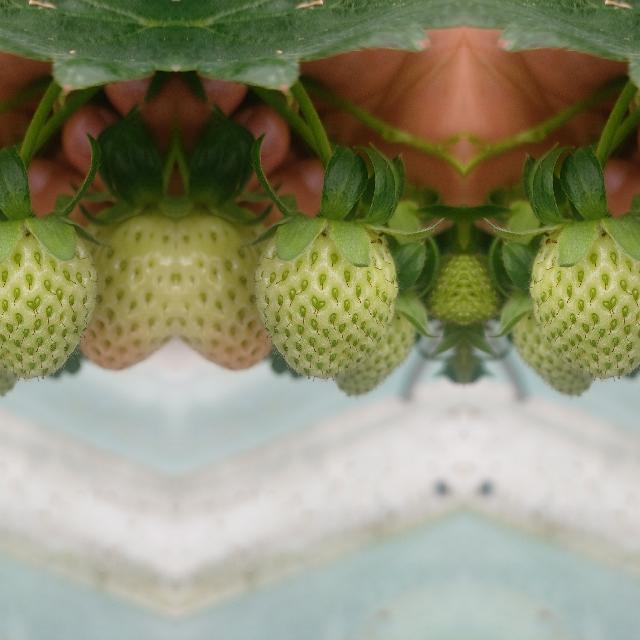Health_25: (254, 227, 396, 379), (529, 227, 640, 379), (0, 227, 96, 379)
Health_50: (176, 206, 274, 370), (76, 206, 174, 370)
